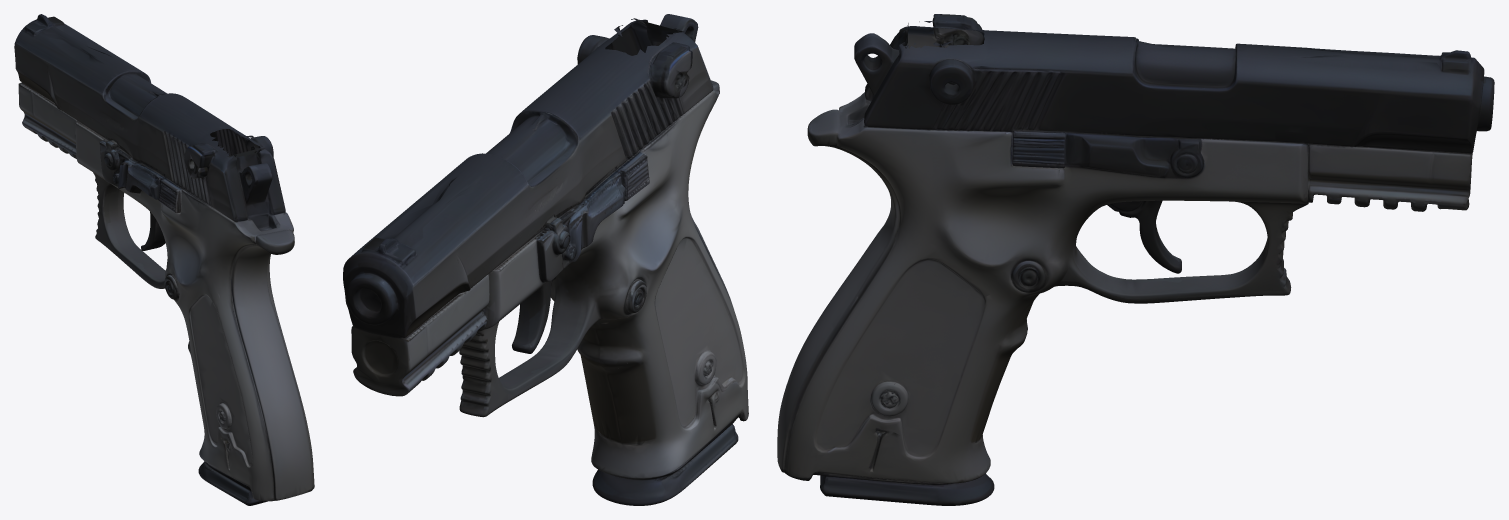
File: p226_bare.glb
3 views of the same model, side by side, from view 1: azimuth 30°, elevation 25°; view 2: azimuth 150°, elevation 25°; view 3: azimuth 270°, elevation 25° (orthographic). The views are drawn at different scales.
Visible parts, largest first — view 1: Mesh_0; view 2: Mesh_0; view 3: Mesh_0.
Part boxes in pixels (x1=…): Mesh_0: x1=14, y1=14, x2=314, y2=505; Mesh_0: x1=343, y1=14, x2=748, y2=505; Mesh_0: x1=777, y1=14, x2=1494, y2=505.
Size of the model in its own units: 0.0314 by 0.1385 by 0.1957.
1 material, 1 textured.
